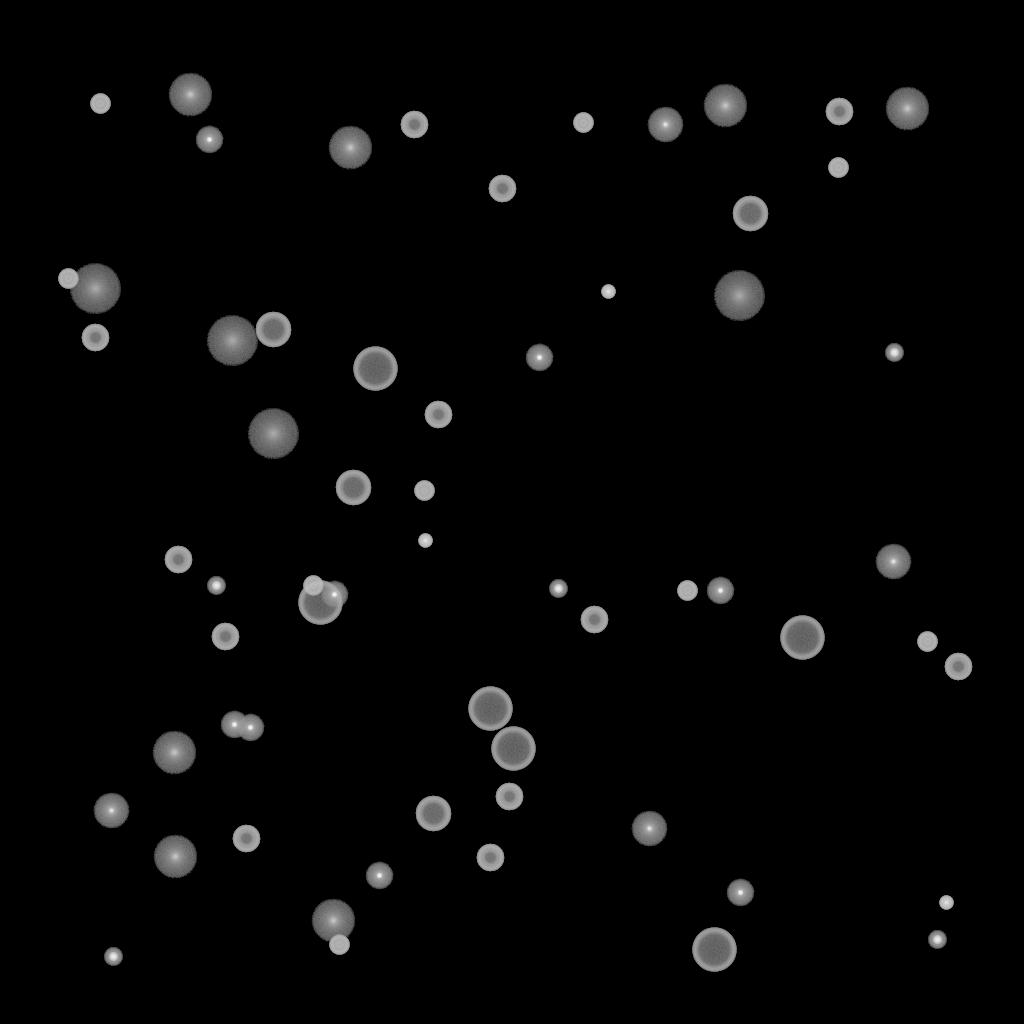depth:-10: (726, 879, 754, 907), (525, 344, 553, 372), (195, 126, 223, 154), (706, 577, 734, 605), (365, 862, 393, 890), (220, 711, 248, 739), (320, 581, 348, 609), (236, 714, 264, 742)
depth:-20: (207, 577, 225, 595), (885, 344, 903, 362), (549, 580, 567, 598), (104, 948, 122, 966), (928, 931, 946, 949)
depth:-30: (939, 896, 953, 910), (601, 285, 615, 299), (418, 534, 432, 548)
depth:-40: (677, 581, 697, 601), (58, 269, 78, 289), (414, 481, 434, 501), (303, 576, 323, 596), (329, 935, 349, 955), (828, 158, 848, 178), (573, 113, 593, 133), (90, 94, 110, 114), (917, 632, 937, 652)
depth:-50: (580, 606, 608, 634), (211, 623, 239, 651), (495, 783, 523, 811), (164, 546, 192, 574), (424, 401, 452, 429), (488, 175, 516, 203), (944, 653, 972, 681), (825, 98, 853, 126), (400, 111, 428, 139), (232, 825, 260, 853), (476, 844, 504, 872), (81, 324, 109, 352)
depth:-60: (255, 312, 291, 348), (415, 796, 451, 832), (335, 470, 371, 506), (732, 196, 768, 232)
depth:-70: (468, 687, 512, 731), (692, 928, 736, 972), (353, 347, 397, 391), (298, 581, 342, 625), (491, 727, 535, 771), (780, 616, 824, 660)
depth:0: (631, 811, 667, 847), (647, 107, 683, 143), (875, 544, 911, 580), (93, 793, 129, 829)
depth:10: (152, 731, 196, 775), (311, 899, 355, 943), (885, 87, 929, 131), (153, 835, 197, 879), (328, 126, 372, 170), (703, 84, 747, 128), (168, 73, 212, 117)
depth:20: (69, 264, 121, 314), (247, 409, 299, 459), (713, 271, 765, 321), (206, 316, 258, 366)
